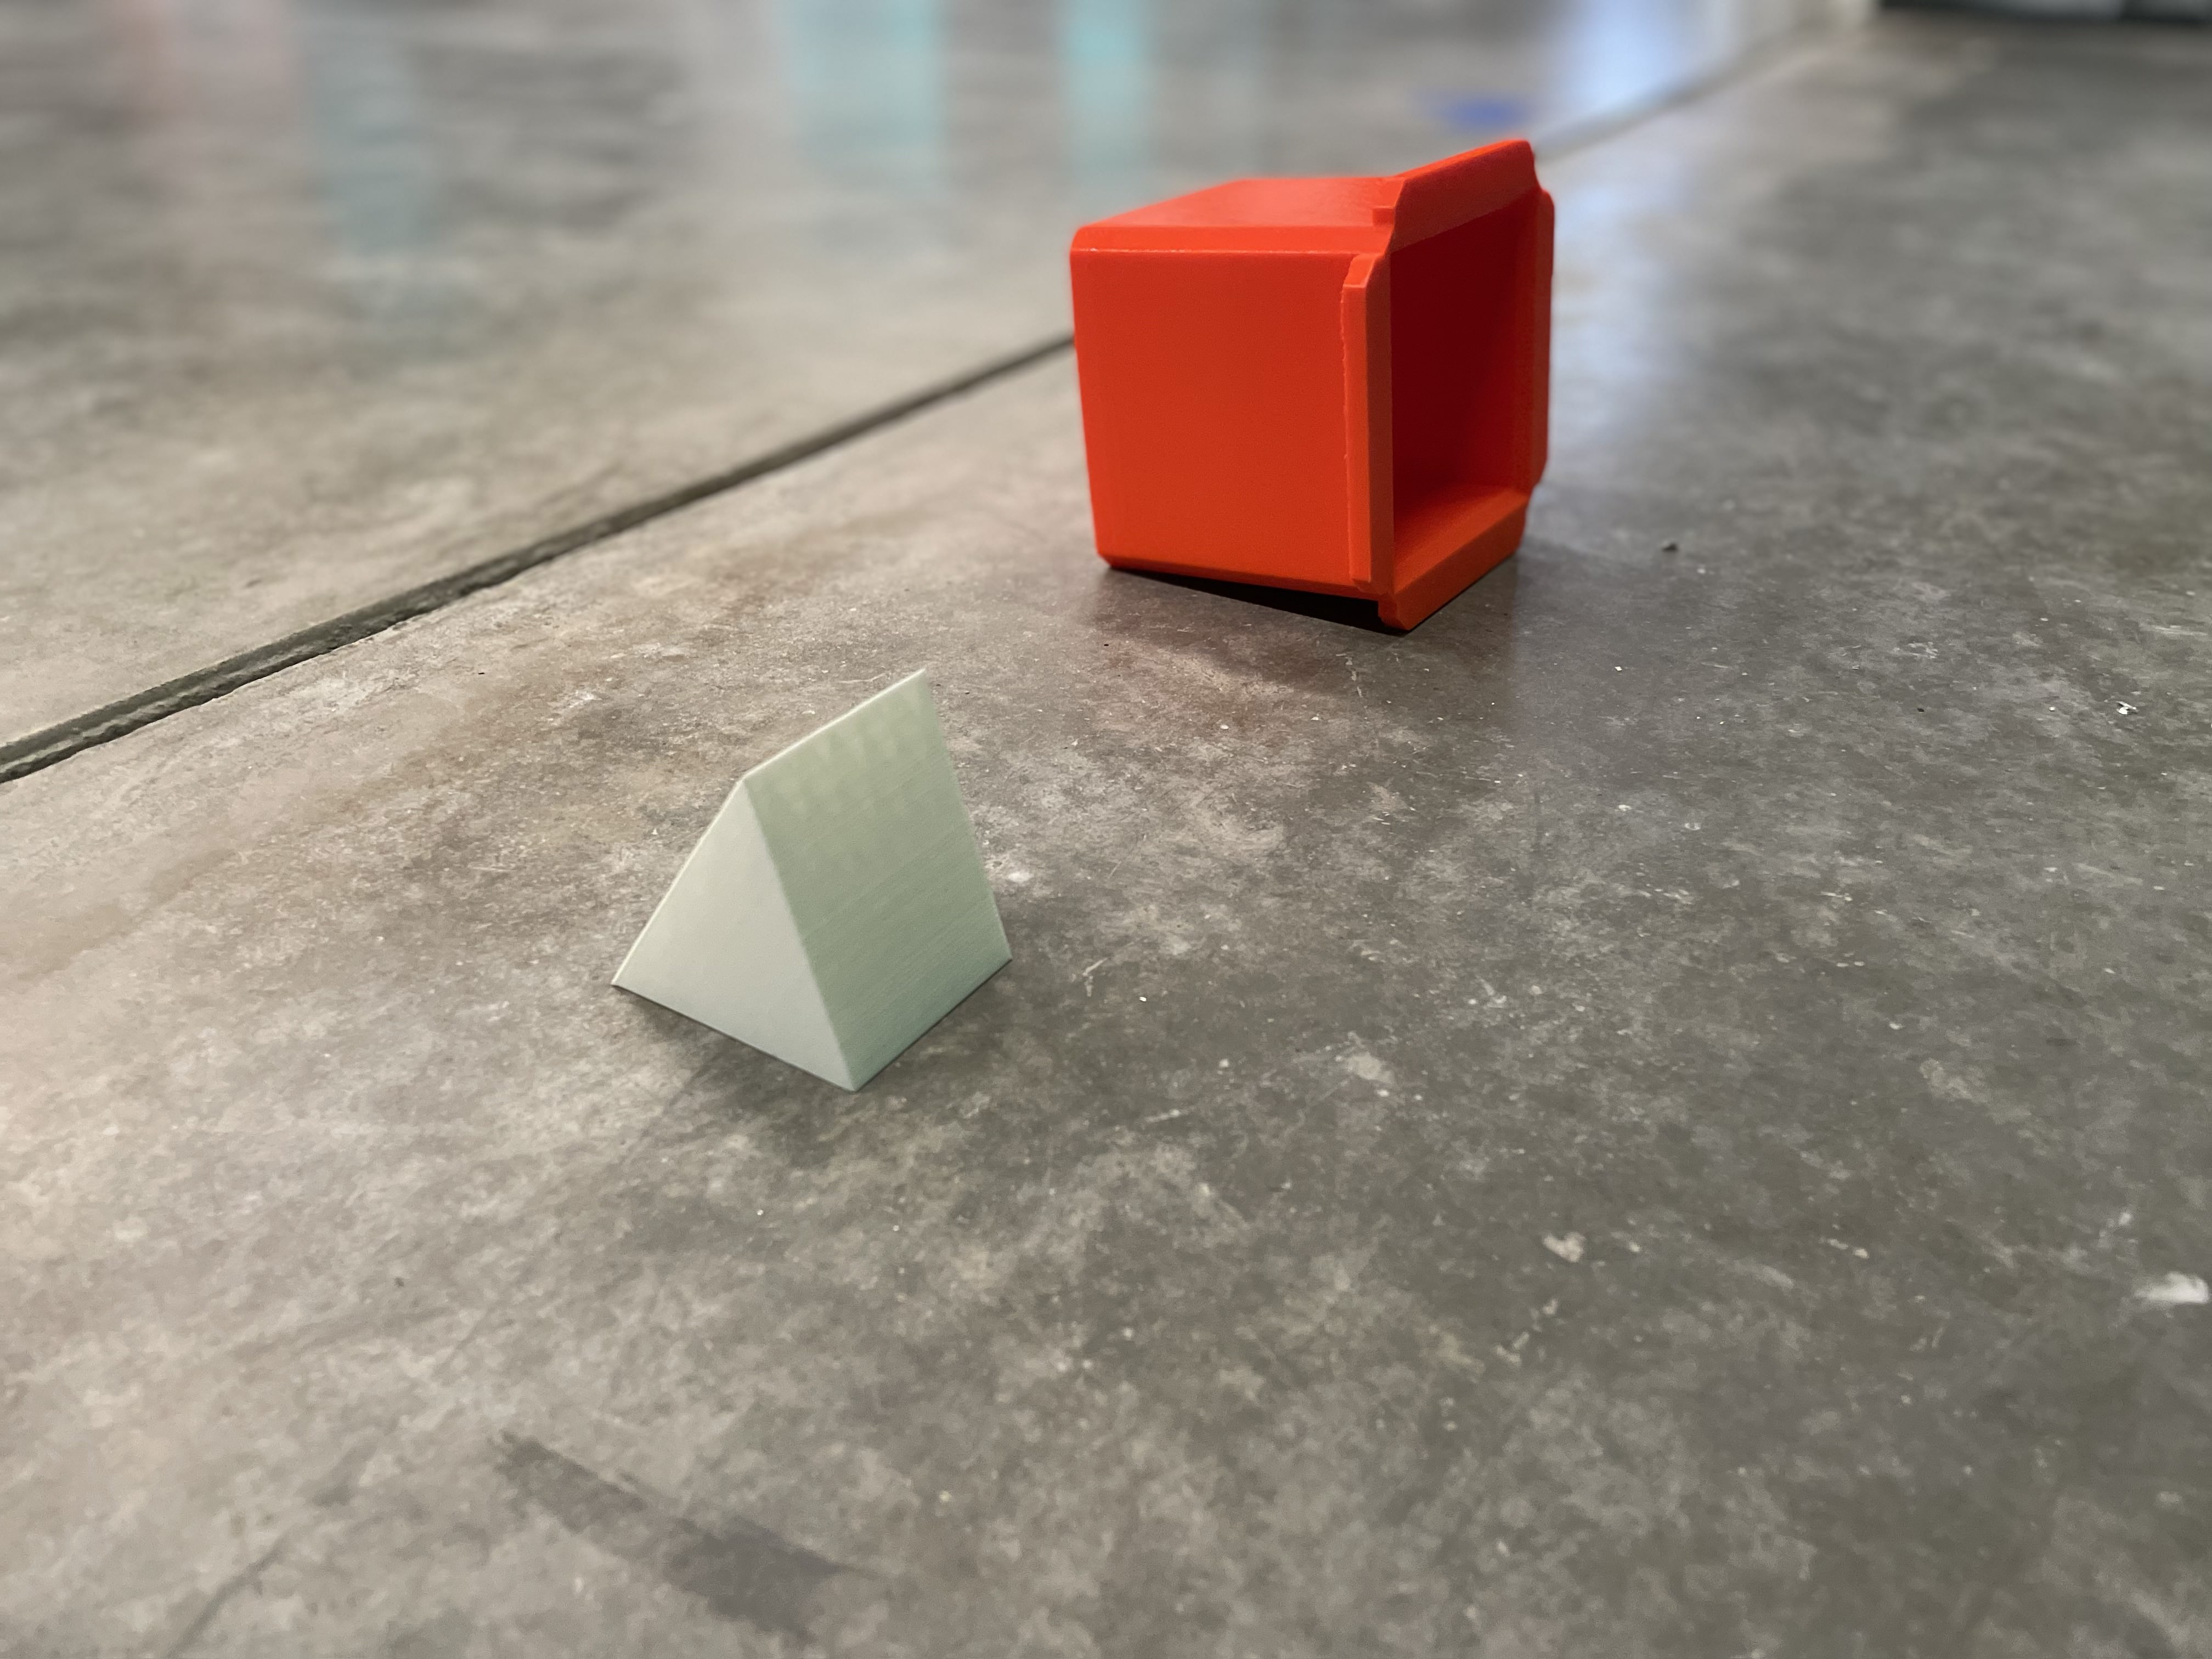payload1: (1042, 124, 1604, 650)
payload2: (599, 657, 1043, 1127)
